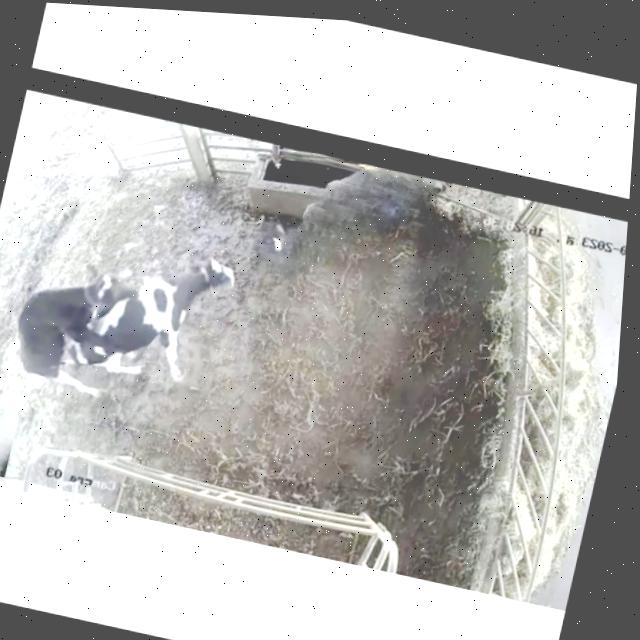ride: (0, 240, 148, 418)
stand: (77, 222, 253, 416)
